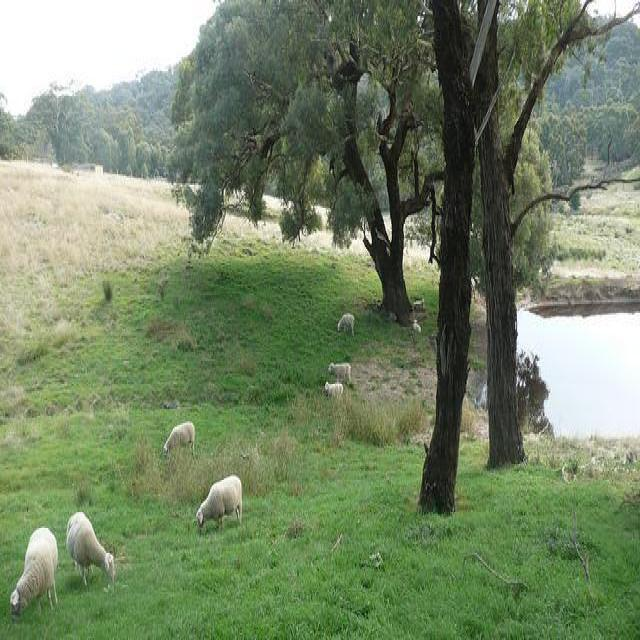Sheep: (11, 526, 60, 622), (65, 508, 116, 590), (195, 475, 243, 533)
